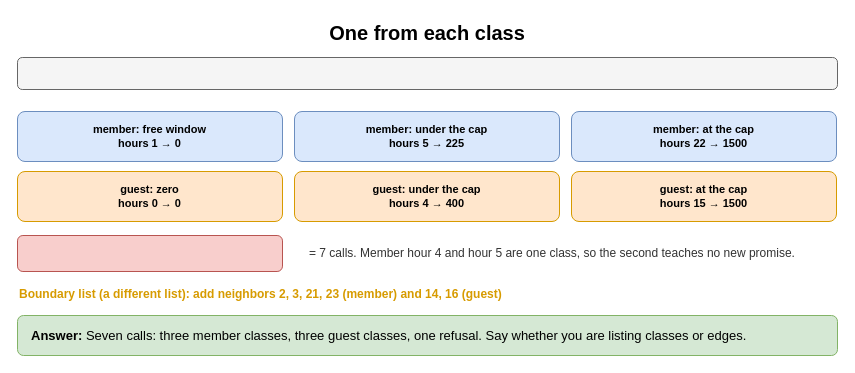
This 855x373 diagram has some shape labels left out. Here are the shapes that lost their labels. From the top down, the centre of each, then its label:
(x=427, y=73): Partition member and guest hours; one representative per class, plus the refusal
(x=149, y=253): refusal: hours −1 → ValueError
